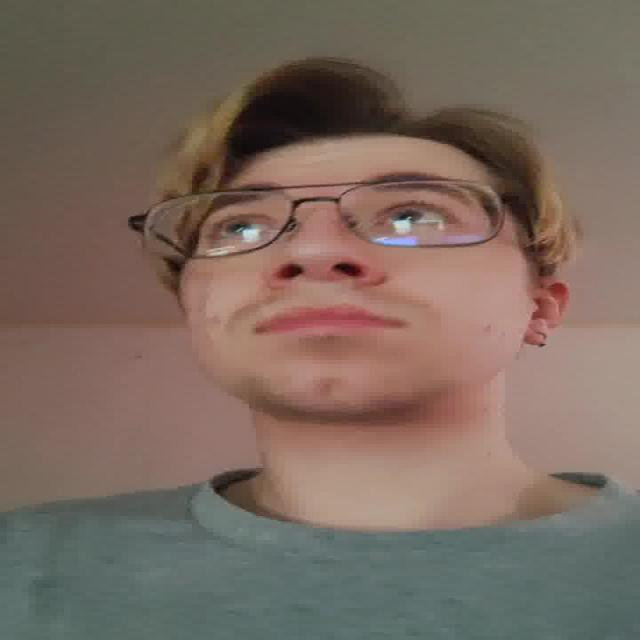earlobe: (522, 330, 556, 350)
eye: (375, 205, 462, 231), (209, 214, 277, 240)
nose: (268, 270, 385, 308)
wholeear: (522, 276, 574, 350)
